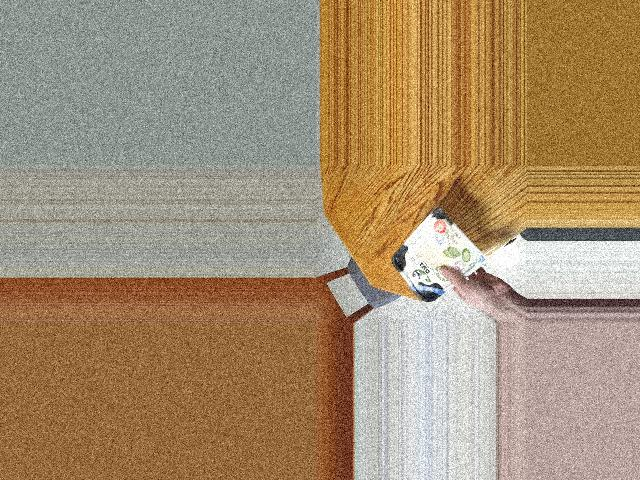cheese: (403, 217, 458, 297)
